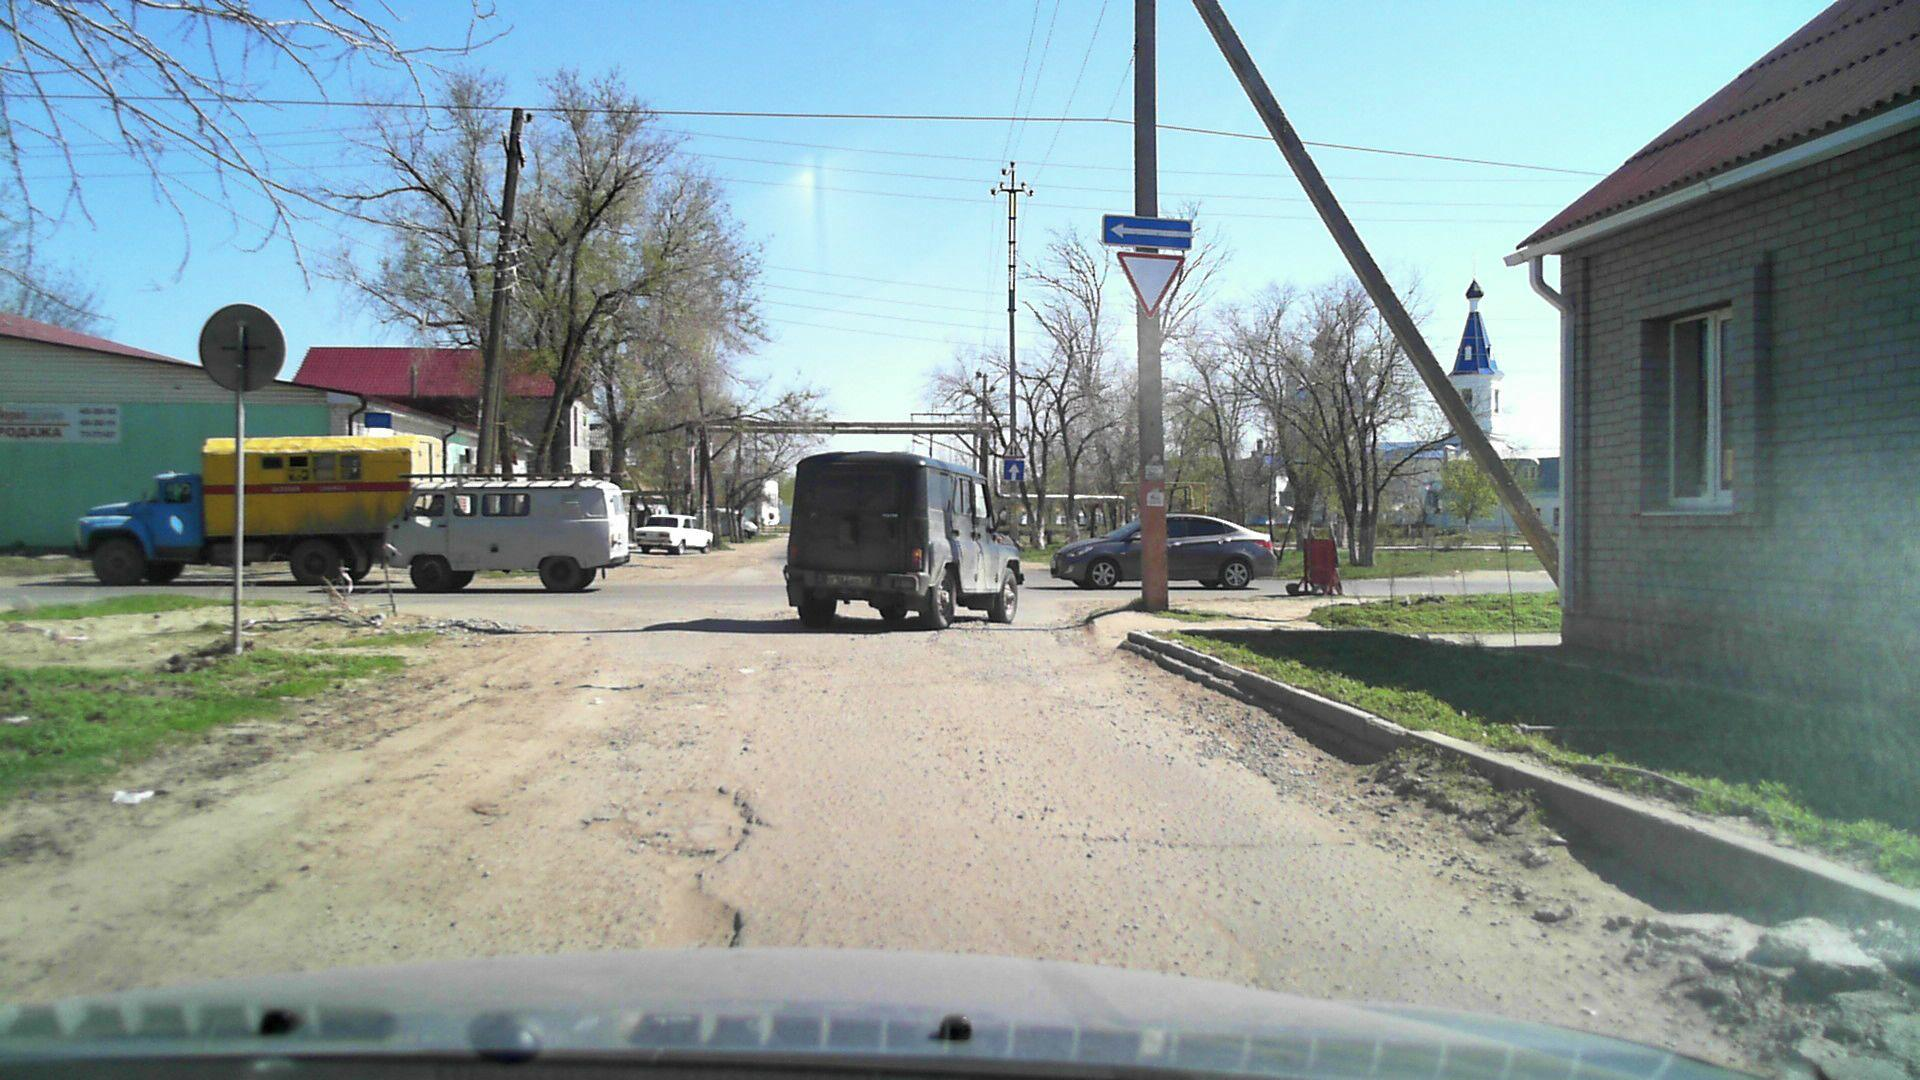1_21: (1001, 438, 1027, 458)
2_4: (1117, 253, 1185, 318)
5_5: (1004, 459, 1026, 481)
5_7_2: (1096, 214, 1196, 252)
